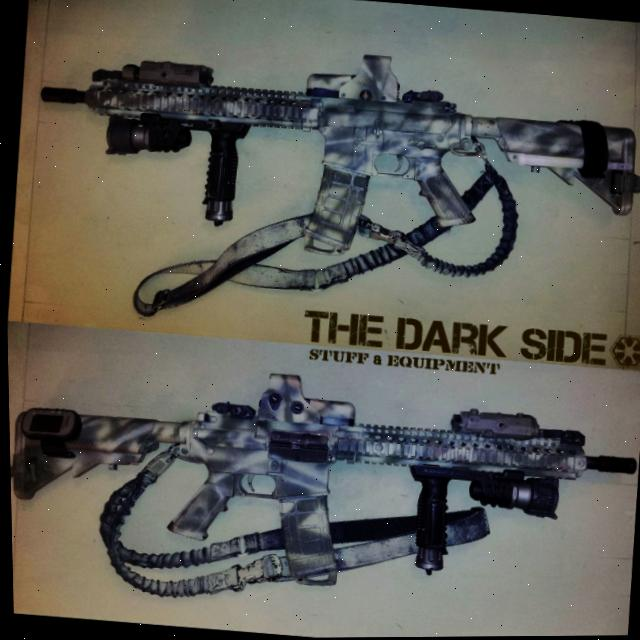firearm: (6, 348, 640, 611), (28, 22, 640, 277)
